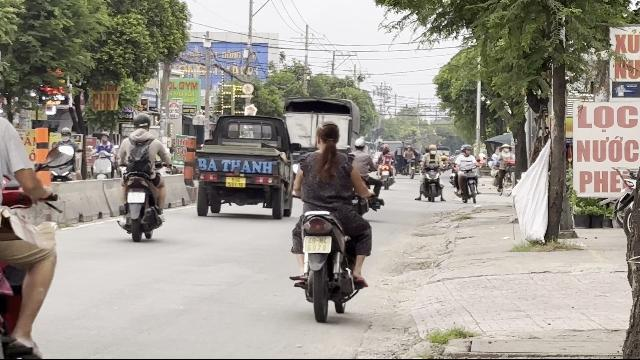helmet: (131, 113, 151, 133)
licenseplate: (304, 237, 332, 253), (128, 192, 144, 202)
motorcyclist: (284, 118, 378, 320), (114, 112, 170, 240)
nohelmet: (315, 121, 341, 149)
